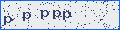p: (40, 10, 49, 19), (63, 10, 71, 20), (23, 11, 31, 21), (53, 10, 61, 19), (4, 16, 12, 25)
